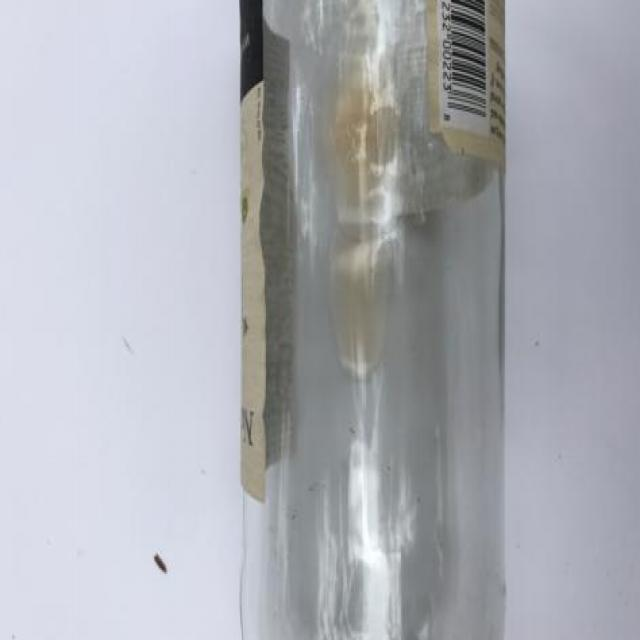glass: (242, 0, 506, 640)
